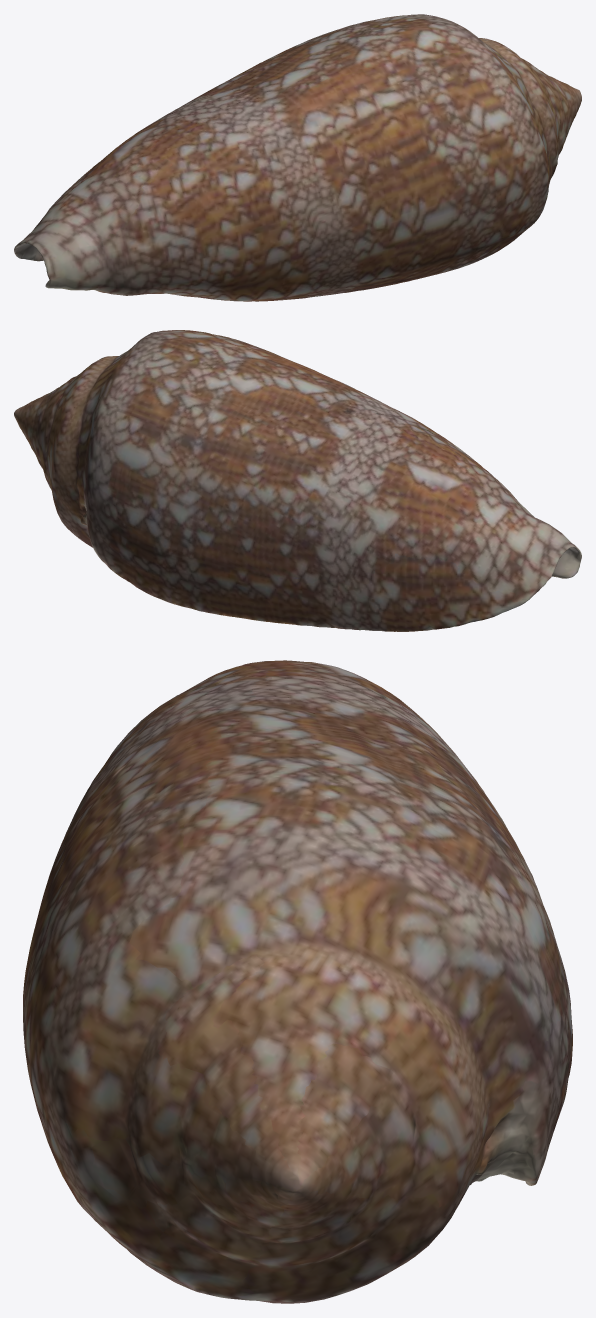
Rendered from conus-textile-c29a9ede.glb.
3 renders of one model, top to bottom at view 1: azimuth 30°, elevation 25°; view 2: azimuth 150°, elevation 25°; view 3: azimuth 270°, elevation 25°, orthographic. The views are drawn at different scales.
Bounding box in the file's own units: 0.0873 × 0.0349 × 0.0381.
1 material, 1 textured.
